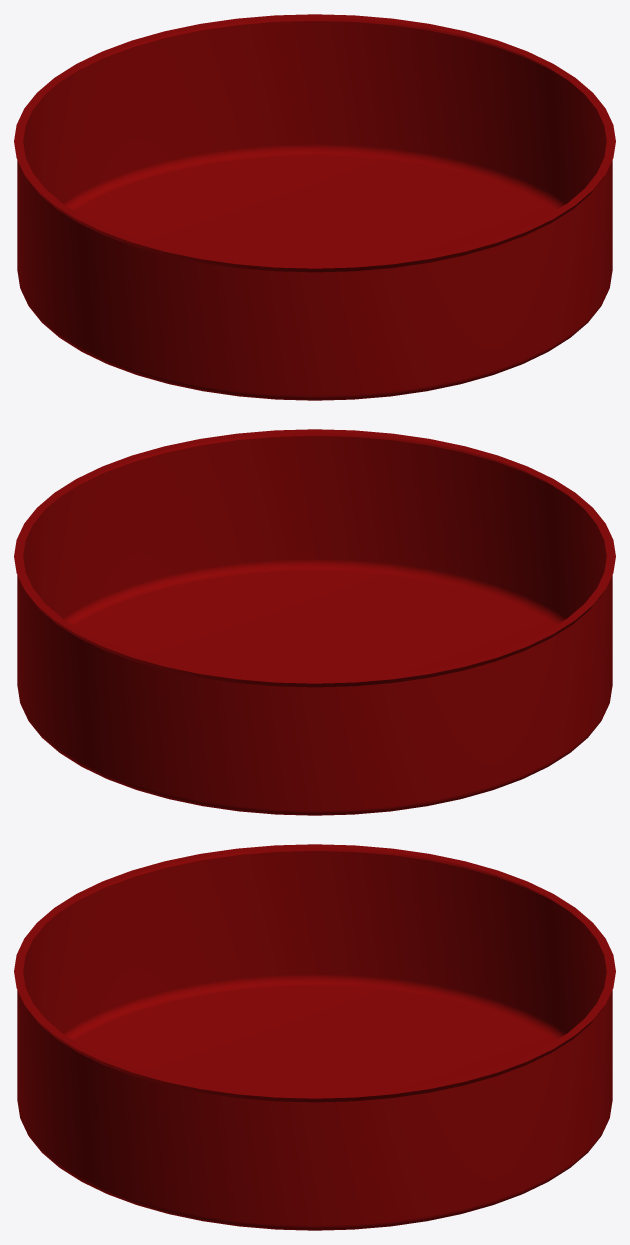
The model's file is original-1.obj.
3 renders of one model, top to bottom at view 1: azimuth 30°, elevation 25°; view 2: azimuth 150°, elevation 25°; view 3: azimuth 270°, elevation 25°, orthographic.
Parts seen in each view (by area): view 1: mesh1/mesh1-geometry#mesh1-geometry; view 2: mesh1/mesh1-geometry#mesh1-geometry; view 3: mesh1/mesh1-geometry#mesh1-geometry.
Boxes of the visible parts, x1=… form: mesh1/mesh1-geometry#mesh1-geometry: x1=14, y1=14, x2=615, y2=400; mesh1/mesh1-geometry#mesh1-geometry: x1=14, y1=429, x2=615, y2=815; mesh1/mesh1-geometry#mesh1-geometry: x1=14, y1=844, x2=615, y2=1230.
Size of the model in its own units: 1.01 by 0.252 by 1.01.
